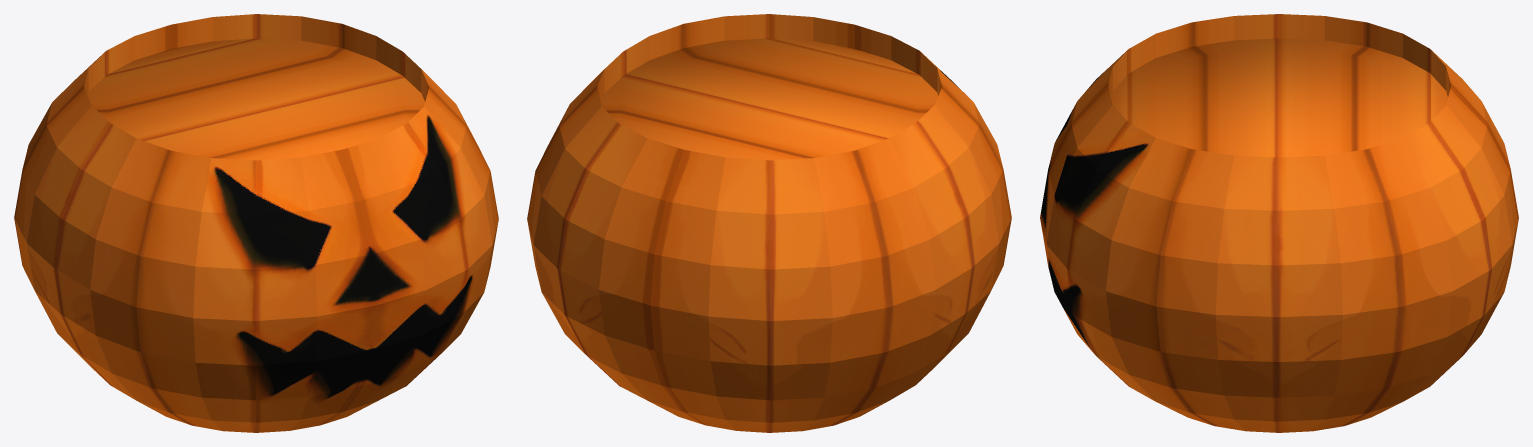
The model's file is Pumpkin1.glb.
3 renders of one model, left to right at view 1: azimuth 30°, elevation 25°; view 2: azimuth 150°, elevation 25°; view 3: azimuth 270°, elevation 25°, orthographic.
Visible parts, largest first — view 1: Pumpkin; view 2: Pumpkin; view 3: Pumpkin.
Boxes of the visible parts, x1,y1,x2,y2 form: Pumpkin: [14, 14, 498, 432]; Pumpkin: [527, 14, 1011, 432]; Pumpkin: [1040, 14, 1518, 432].
Bounding box in the file's own units: 10.47 × 7.19 × 10.66.
Materials: 1 (1 with a texture image).
